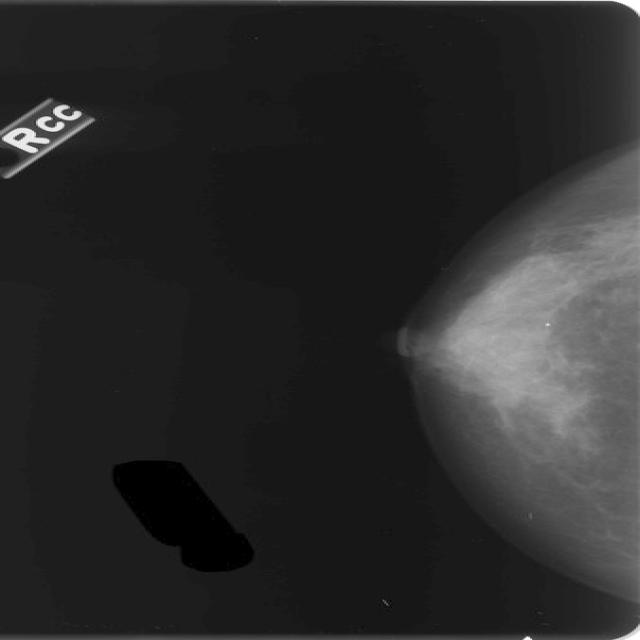tumour: (488, 384, 522, 414)
